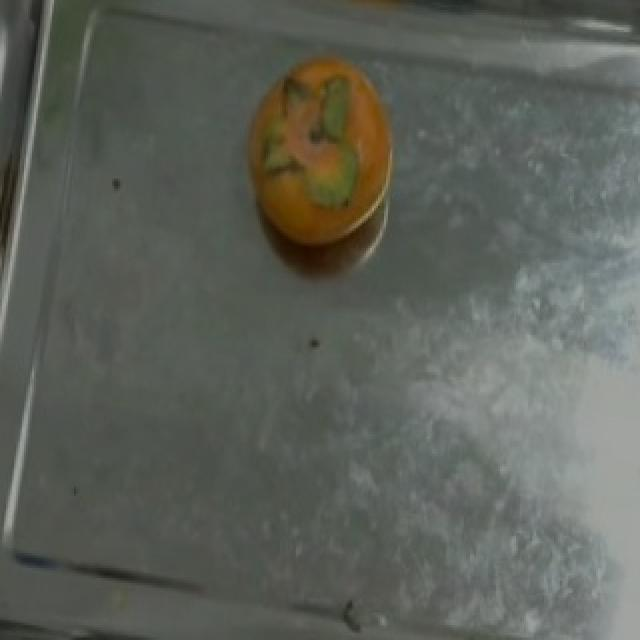Fruit: (230, 32, 410, 268)
